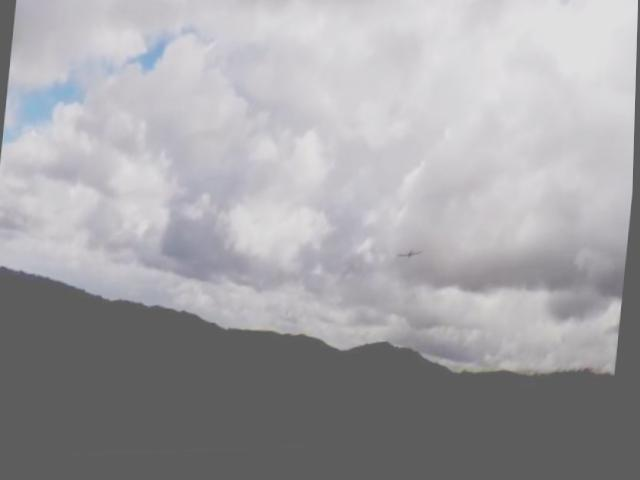iha: (397, 255, 423, 272)
